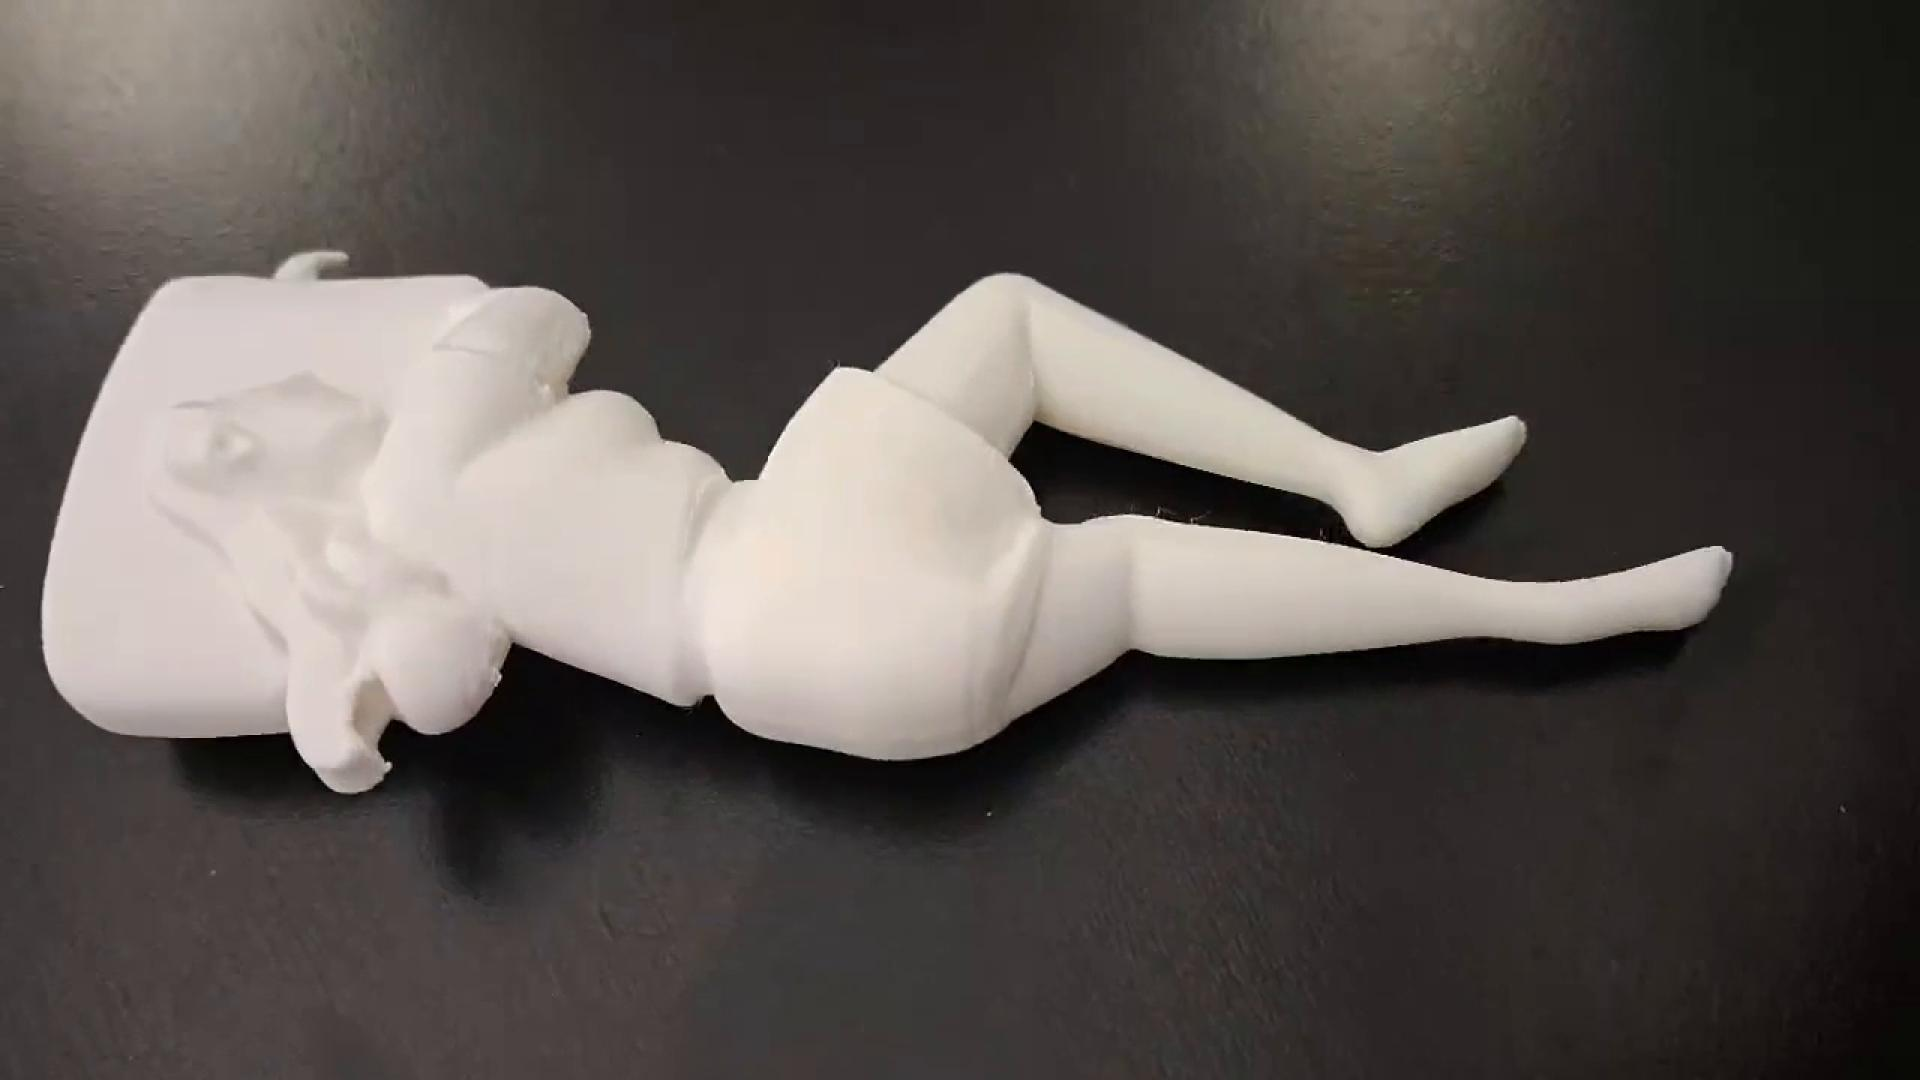Good-style: (21, 218, 1804, 804)
